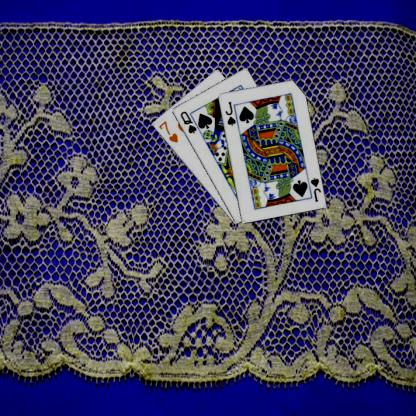7H: (156, 118, 179, 144)
JS: (222, 99, 236, 127), (308, 175, 322, 203)
QS: (178, 109, 198, 135)
